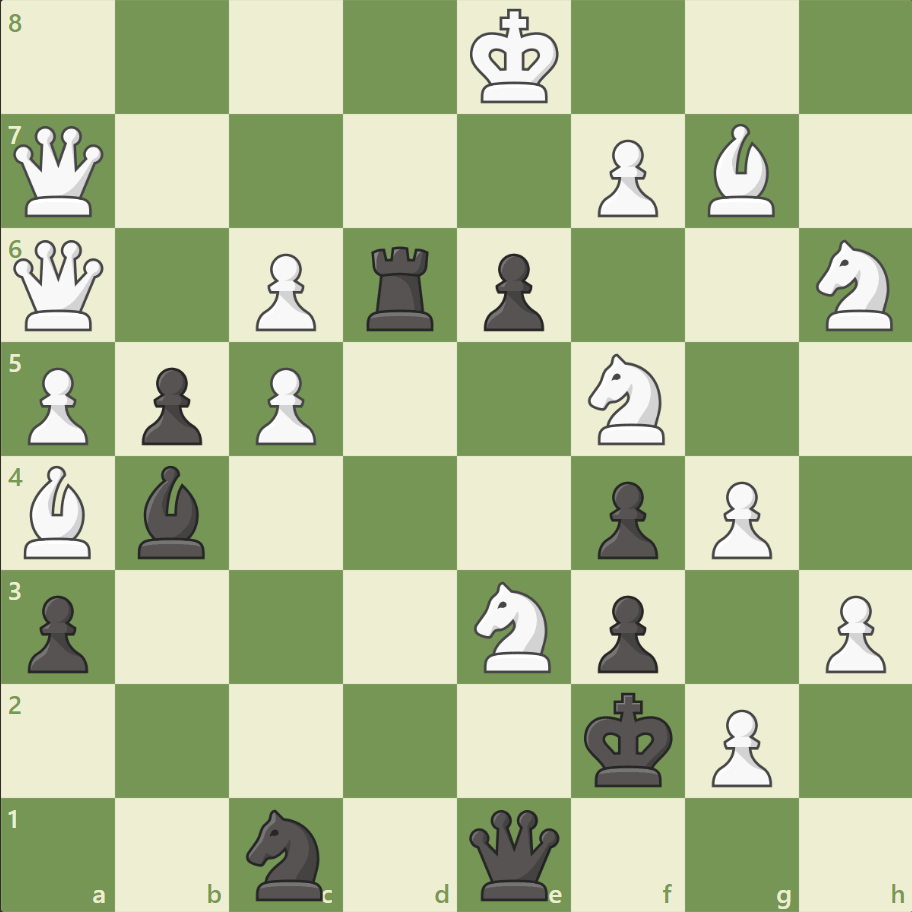B: (17, 460, 101, 563), (698, 120, 782, 222)
K: (465, 4, 565, 112)
N: (806, 234, 903, 337), (579, 348, 676, 450), (465, 575, 562, 677)
P: (247, 246, 322, 337), (20, 359, 95, 450), (247, 359, 322, 450), (701, 473, 776, 564), (701, 700, 776, 791), (588, 132, 662, 223), (815, 586, 889, 677)
Q: (10, 122, 109, 222), (10, 236, 109, 335)
b: (131, 460, 215, 563)
k: (579, 685, 679, 793)
n: (238, 802, 335, 904)
p: (474, 246, 549, 337), (133, 359, 208, 450), (20, 586, 95, 677), (588, 473, 662, 564), (588, 586, 662, 677)
q: (464, 804, 563, 903)
r: (360, 239, 442, 336)
